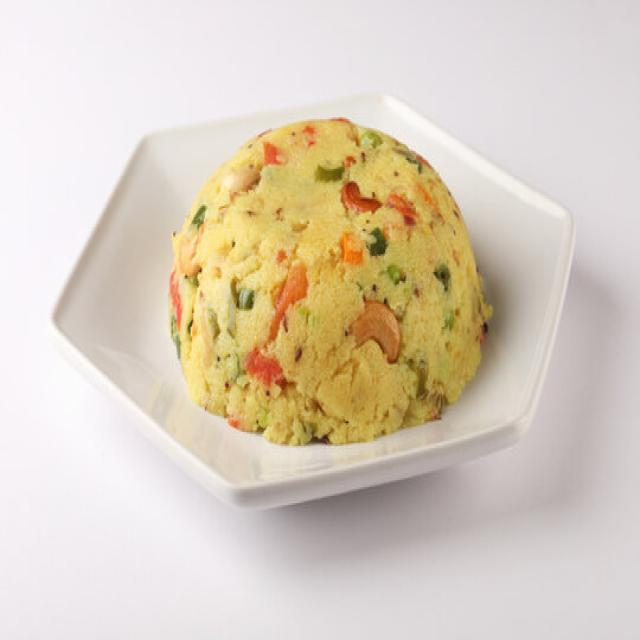UPMA: (171, 119, 491, 443)
